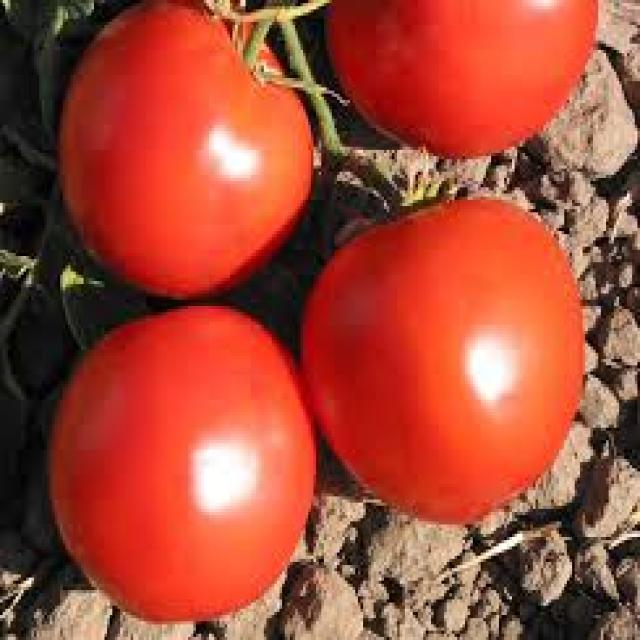Fresh_tomato: (320, 182, 584, 512), (65, 323, 298, 612), (72, 7, 315, 273), (337, 0, 593, 144)
